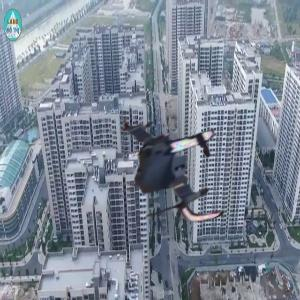drone: (108, 100, 243, 235)
